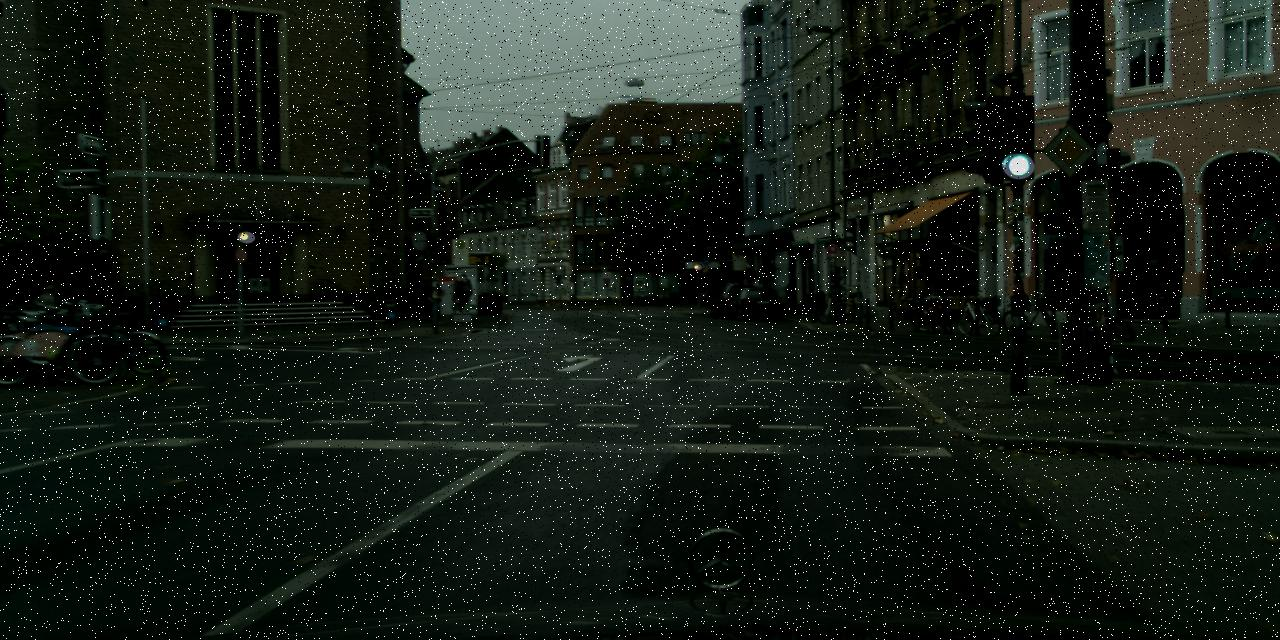ped: (34, 285, 60, 347), (21, 290, 44, 346), (427, 280, 444, 324)
